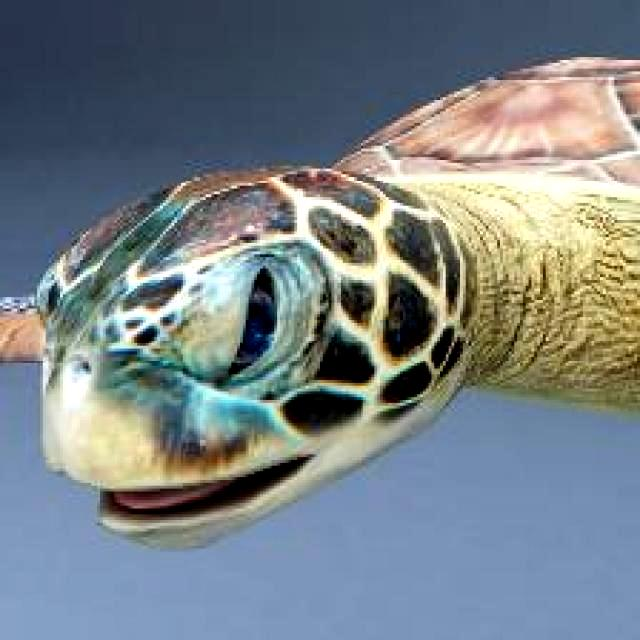Sea turtle: (0, 47, 640, 552)
